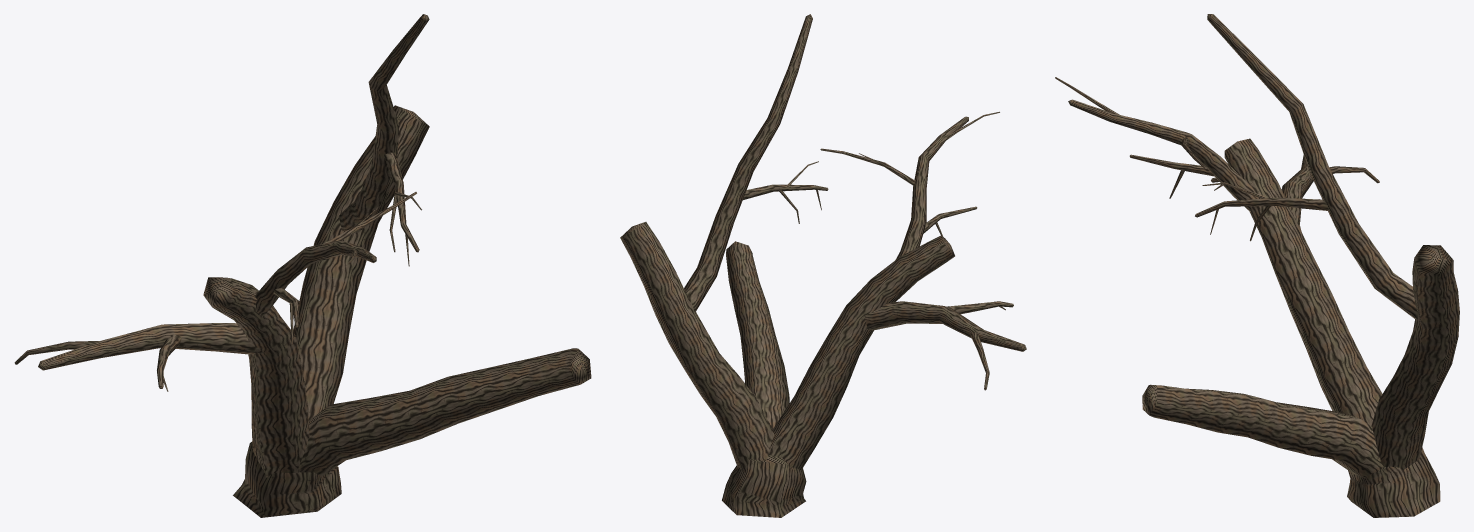
The model's file is dead_standing-a.lod1.glb.
3 views of the same model, side by side, from view 1: azimuth 30°, elevation 25°; view 2: azimuth 150°, elevation 25°; view 3: azimuth 270°, elevation 25° (orthographic). The views are drawn at different scales.
Visible parts, largest first — view 1: bark; view 2: bark; view 3: bark.
Boxes of the visible parts, x1=… form: bark: x1=14, y1=14, x2=591, y2=517; bark: x1=620, y1=14, x2=1026, y2=517; bark: x1=1055, y1=14, x2=1459, y2=517.
Bounding box in the file's own units: 7.66 × 8.5 × 6.22.
1 material, 1 textured.
